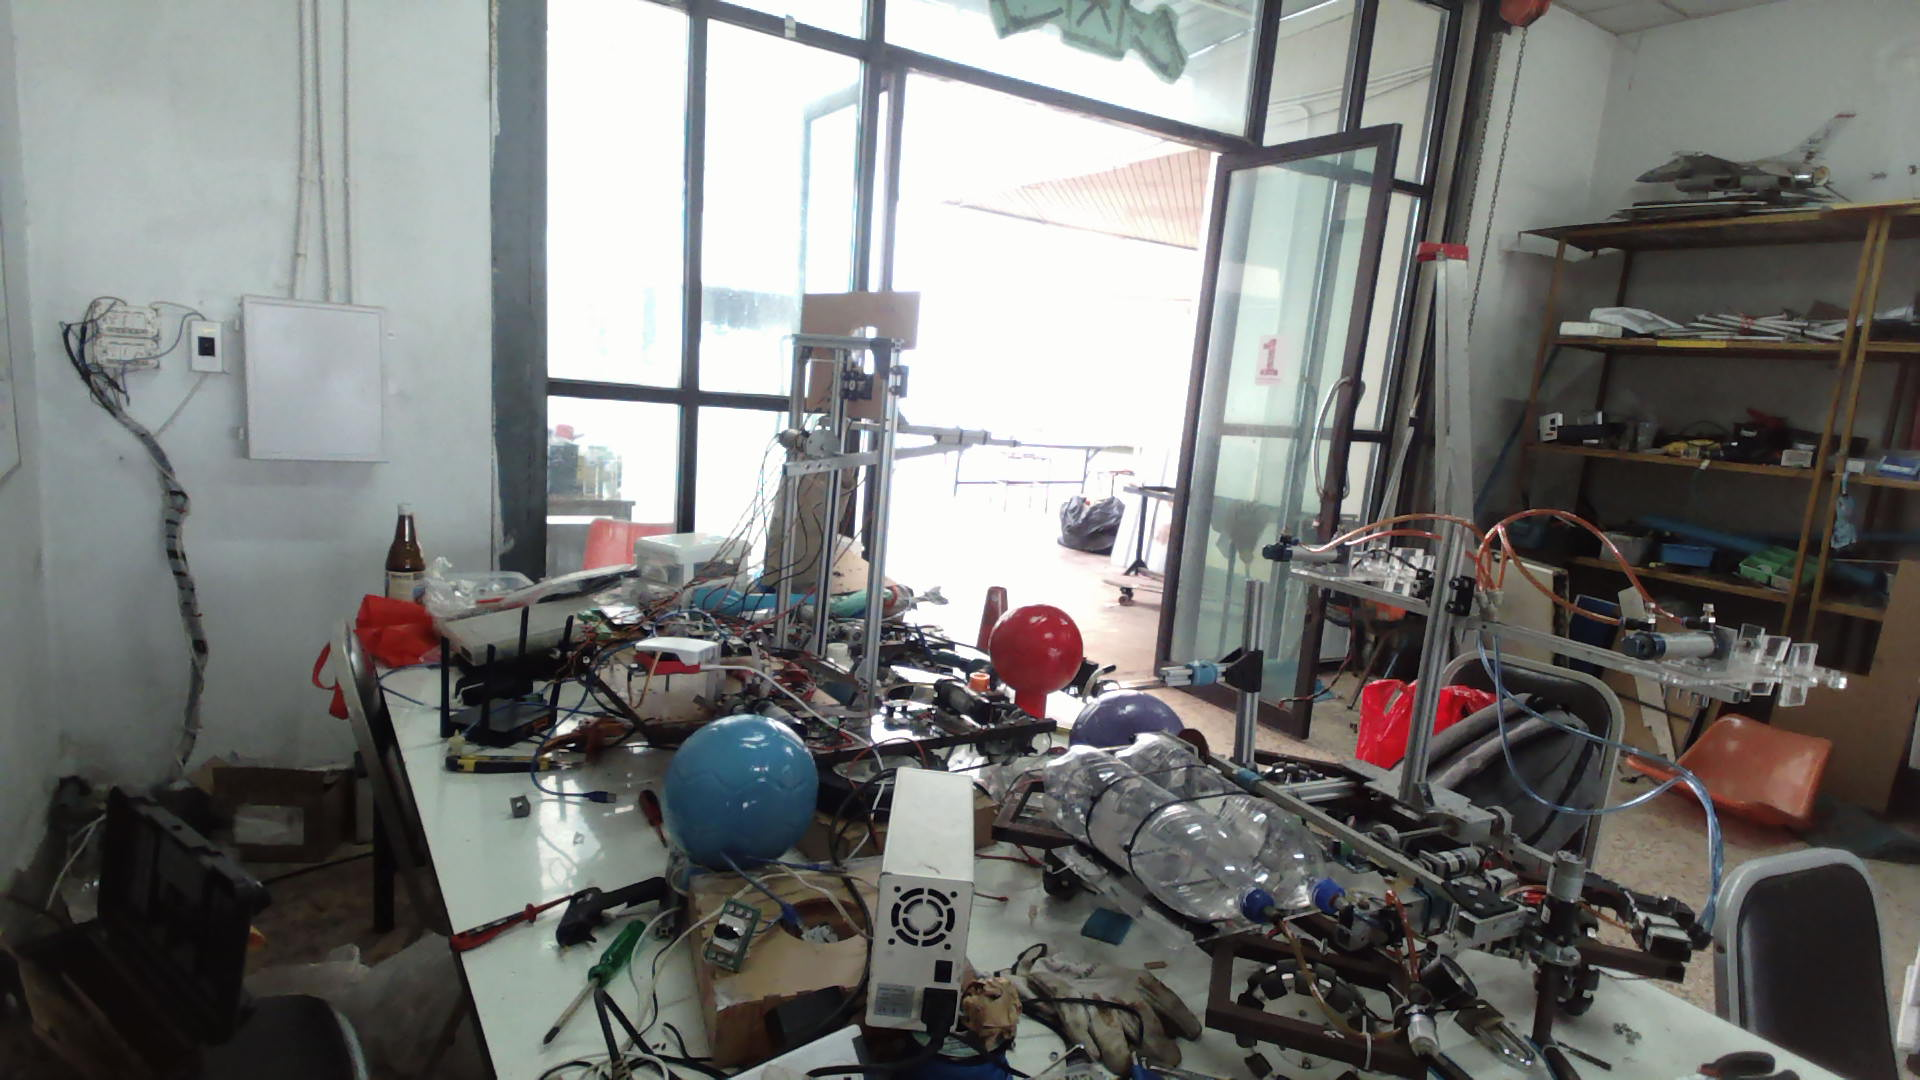Blue ball: (662, 713, 820, 866)
Purple ball: (1071, 692, 1183, 746)
Red ball: (986, 600, 1084, 700)
